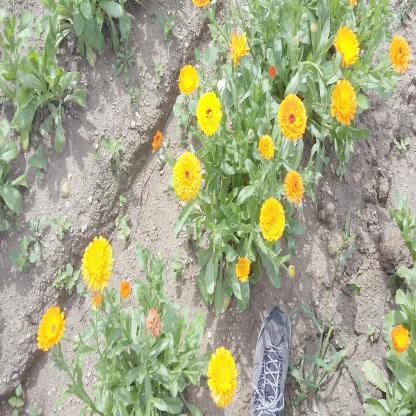marigold: (208, 347, 237, 406), (82, 235, 112, 288), (278, 93, 307, 138), (174, 152, 201, 198), (258, 196, 284, 242), (37, 306, 64, 349), (197, 91, 223, 134), (332, 80, 355, 124), (336, 26, 360, 63), (390, 34, 411, 72), (228, 34, 247, 65), (285, 168, 302, 202), (178, 64, 198, 90), (391, 324, 410, 350), (235, 257, 250, 282), (259, 135, 273, 157)
